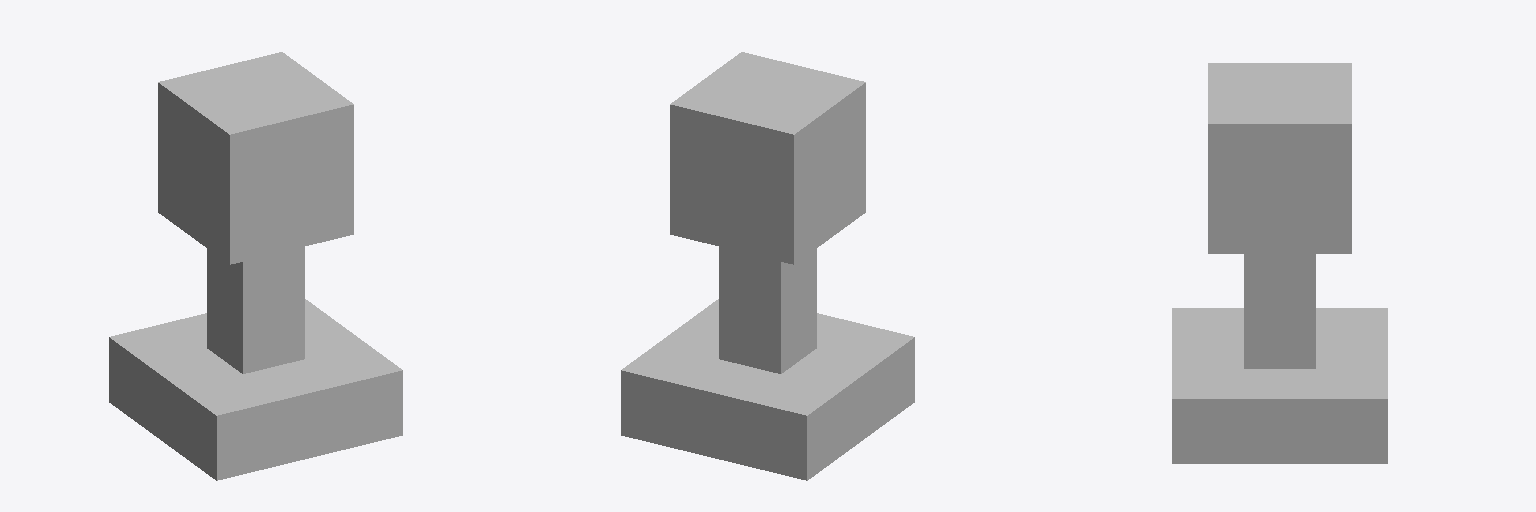
The model's file is sensor.obj.
The picture shows the model from 3 angles: view 1: azimuth 30°, elevation 25°; view 2: azimuth 150°, elevation 25°; view 3: azimuth 270°, elevation 25°; orthographic projection.
Visible parts, largest first — view 1: model; view 2: model; view 3: model.
Part boxes in pixels (bbox=[...]): model: bbox=[109, 52, 402, 480]; model: bbox=[621, 52, 914, 480]; model: bbox=[1172, 63, 1387, 463].
Bounding box in the file's own units: 0.375 × 0.625 × 0.375.